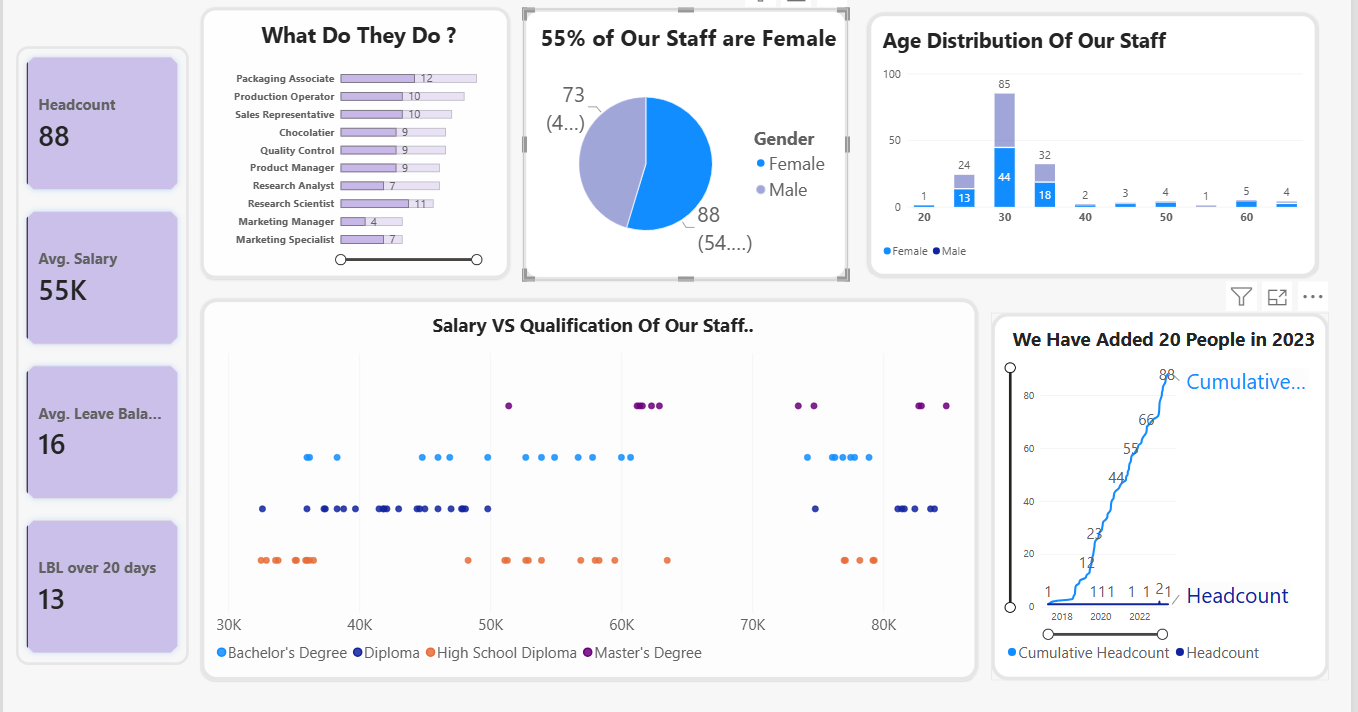

This screenshot's page, from the dashboard's own definition file:
{"tool":"powerbi","page":{"name":"Page 10","canvas":[1920,1080],"ordinal":0},"visuals":[{"type":"cardVisual","fields":{"Data":["staff.Headcount","staff.Avg. Salary","staff.Avg. Leave Balance","staff.LBL over 20 days"]},"box":[18.5,100,246.3,881.5],"z":0},{"type":"clusteredBarChart","title":"What Do They Do ?","fields":{"Category":["staff.Job Title"],"Y":["staff.Headcount"]},"box":[281.5,44.4,440.7,387],"z":1000},{"type":"pieChart","title":"55% of Our Staff  are Female","fields":{"Category":["staff.Gender"],"Y":["staff.Headcount"]},"box":[740.7,46.3,463,387],"z":2000},{"type":"columnChart","title":"Age Distribution Of Our Staff","fields":{"Category":["staff.Age (bins)"],"Series":["staff.Gender"],"Y":["staff.Headcount"]},"box":[1231.5,51.9,642.6,377.8],"z":3000},{"type":"textbox","box":[1309.3,101.9,320.4,50],"z":4000},{"type":"textbox","box":[281,432,441,572],"z":5000},{"type":"scatterChart","title":"Salary VS Qualification Of Our Staff..","fields":{"Series":["qual.Qualification"],"X":["staff.Salary"],"Y":["qual.Qualificcation ID"]},"box":[281.5,459.3,1107.4,544.4],"z":6000},{"type":"lineChart","title":"We Have Added 20 People in 2023","fields":{"Category":["staff.Date of join"],"Y":["staff.Cumulative Headcount","staff.Headcount"]},"box":[1407.4,479.6,481.5,524.1],"z":7000},{"type":"textbox","box":[18.5,127.8,246.3,48.1],"z":8000},{"type":"textbox","box":[18.5,114.8,246.3,61.1],"z":9000},{"type":"textbox","box":[0,100,281.5,75.9],"z":10000}]}

Visuals, with their boxes on the page's 1920x1080 design canvas (x1, y1, x2, y2). These are canvas units, not pixel positions in the 1358x712 screenshot, which may show the page scaled, cropped or inside an application window:
cardVisual - staff.Headcount x staff.Avg. Salary: (x1=18, y1=100, x2=265, y2=982)
"What Do They Do ?" clusteredBarChart: (x1=282, y1=44, x2=722, y2=431)
"55% of Our Staff  are Female" pieChart: (x1=741, y1=46, x2=1204, y2=433)
"Age Distribution Of Our Staff" columnChart: (x1=1232, y1=52, x2=1874, y2=430)
textbox: (x1=1309, y1=102, x2=1630, y2=152)
textbox: (x1=281, y1=432, x2=722, y2=1004)
"Salary VS Qualification Of Our Staff.." scatterChart: (x1=282, y1=459, x2=1389, y2=1004)
"We Have Added 20 People in 2023" lineChart: (x1=1407, y1=480, x2=1889, y2=1004)
textbox: (x1=18, y1=128, x2=265, y2=176)
textbox: (x1=18, y1=115, x2=265, y2=176)
textbox: (x1=0, y1=100, x2=282, y2=176)
